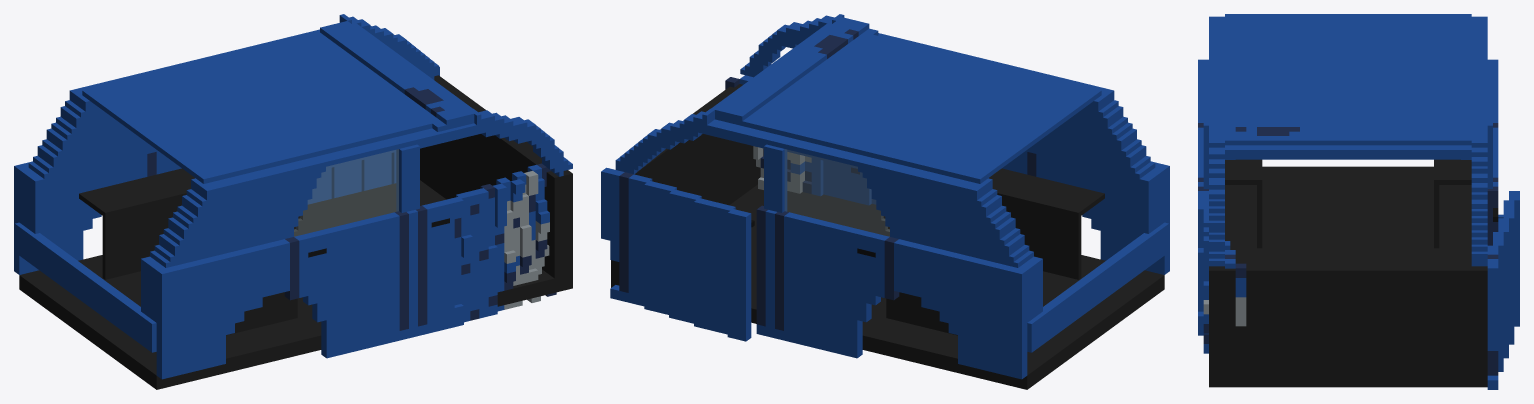
File: crashed_hatchback_shell.glb
3 renders of one model, left to right at view 1: azimuth 30°, elevation 25°; view 2: azimuth 150°, elevation 25°; view 3: azimuth 270°, elevation 25°, orthographic.
Parts seen in each view (by area): view 1: body:compound; view 2: body:compound; view 3: body:compound.
Boxes of the visible parts, x1,y1,x2,y2 form: body:compound: (14,14,572,389); body:compound: (601,14,1169,389); body:compound: (1198,14,1519,389).
Size of the model in its own units: 2.91 by 1.31 by 1.88.
